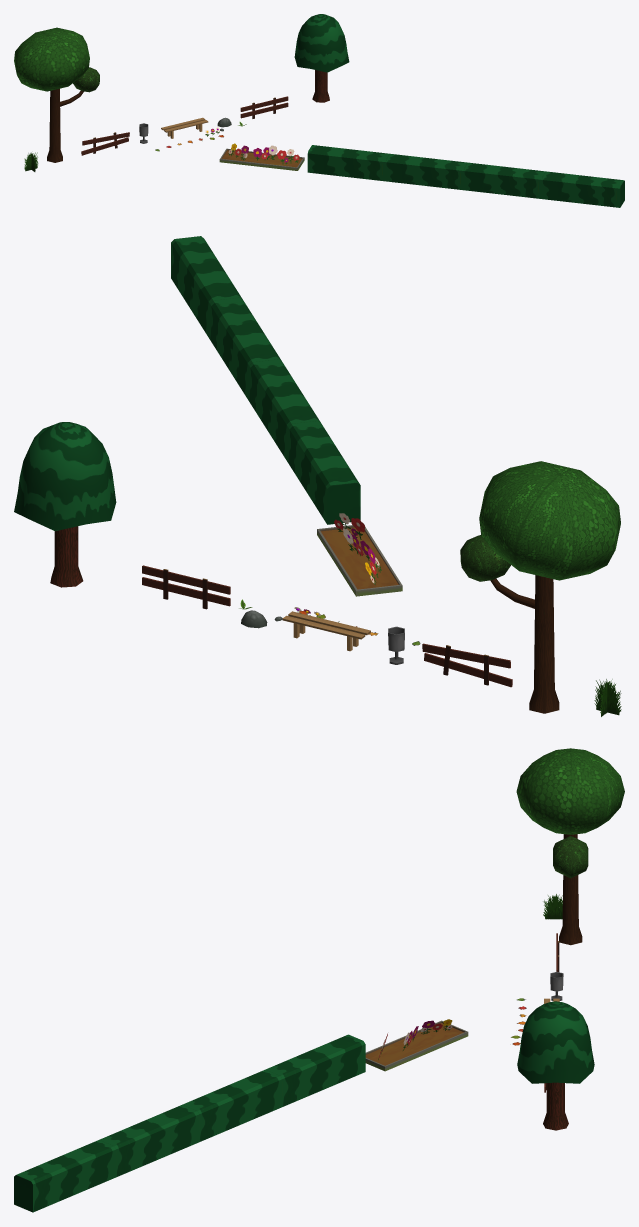
The model's file is MASTERSCENE_2.fbx.
3 views of the same model, one above another, from view 1: azimuth 30°, elevation 25°; view 2: azimuth 150°, elevation 25°; view 3: azimuth 270°, elevation 25° (orthographic). The views are drawn at different scales.
Parts seen in each view (by area): view 1: pCube1, polySurface4, polySurface2, polySurface72, polySurface12, polySurface17, polySurface22; view 2: polySurface4, pCube1, polySurface2, polySurface72, polySurface12, polySurface17, polySurface22, polySurface1; view 3: pCube1, polySurface4, polySurface2, polySurface72.
Part boxes in pixels (<box>): pCube1: <box>307,145,624,207</box>; polySurface4: <box>14,27,99,162</box>; polySurface2: <box>294,14,349,102</box>; polySurface72: <box>219,143,304,170</box>; polySurface12: <box>240,96,288,118</box>; polySurface17: <box>81,132,129,155</box>; polySurface22: <box>161,117,208,138</box>; polySurface4: <box>460,461,620,713</box>; pCube1: <box>171,236,360,524</box>; polySurface2: <box>14,422,116,587</box>; polySurface72: <box>317,513,402,596</box>; polySurface12: <box>142,565,230,609</box>; polySurface17: <box>422,643,512,687</box>; polySurface22: <box>282,611,370,651</box>; polySurface1: <box>594,679,621,716</box>; pCube1: <box>14,1034,365,1212</box>; polySurface4: <box>516,748,624,945</box>; polySurface2: <box>517,1001,594,1130</box>; polySurface72: <box>365,1019,468,1071</box>.
Size of what is drawn, in the model's own units: 22.54 by 6.46 by 19.39.
